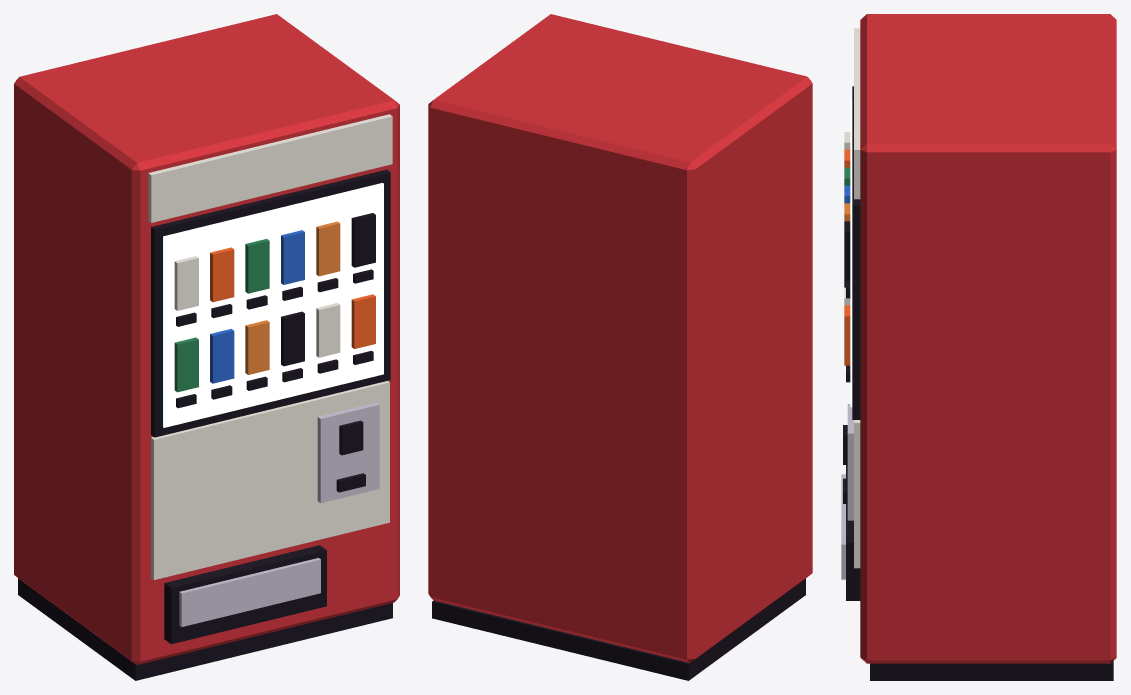
Rendered from vending_machine_red.glb.
The picture shows the model from 3 angles, left to right: view 1: azimuth 30°, elevation 25°; view 2: azimuth 150°, elevation 25°; view 3: azimuth 270°, elevation 25°; orthographic projection. The views are drawn at different scales.
Visible parts, largest first — view 1: vending_machine_red; view 2: vending_machine_red; view 3: vending_machine_red.
Boxes of the visible parts, x1=… form: vending_machine_red: x1=14, y1=14, x2=399, y2=680; vending_machine_red: x1=428, y1=14, x2=812, y2=680; vending_machine_red: x1=841, y1=14, x2=1116, y2=680.
Size of the model in its own units: 1 by 1.85 by 0.86.
